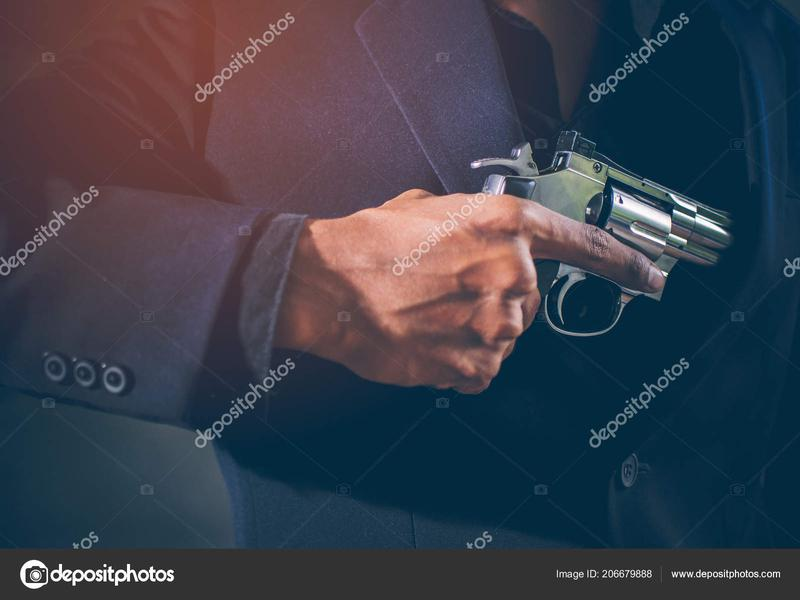Revolver: (470, 107, 745, 340)
